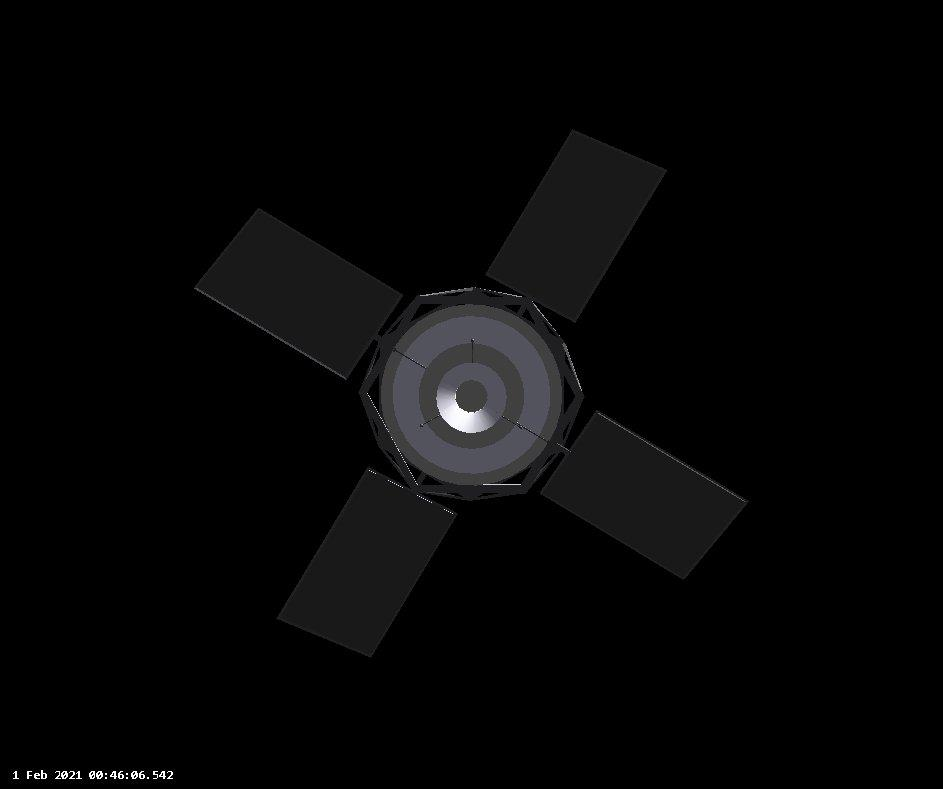body: (354, 283, 585, 505)
solar: (191, 201, 405, 381), (483, 130, 672, 326), (536, 408, 749, 581), (274, 464, 457, 661)
